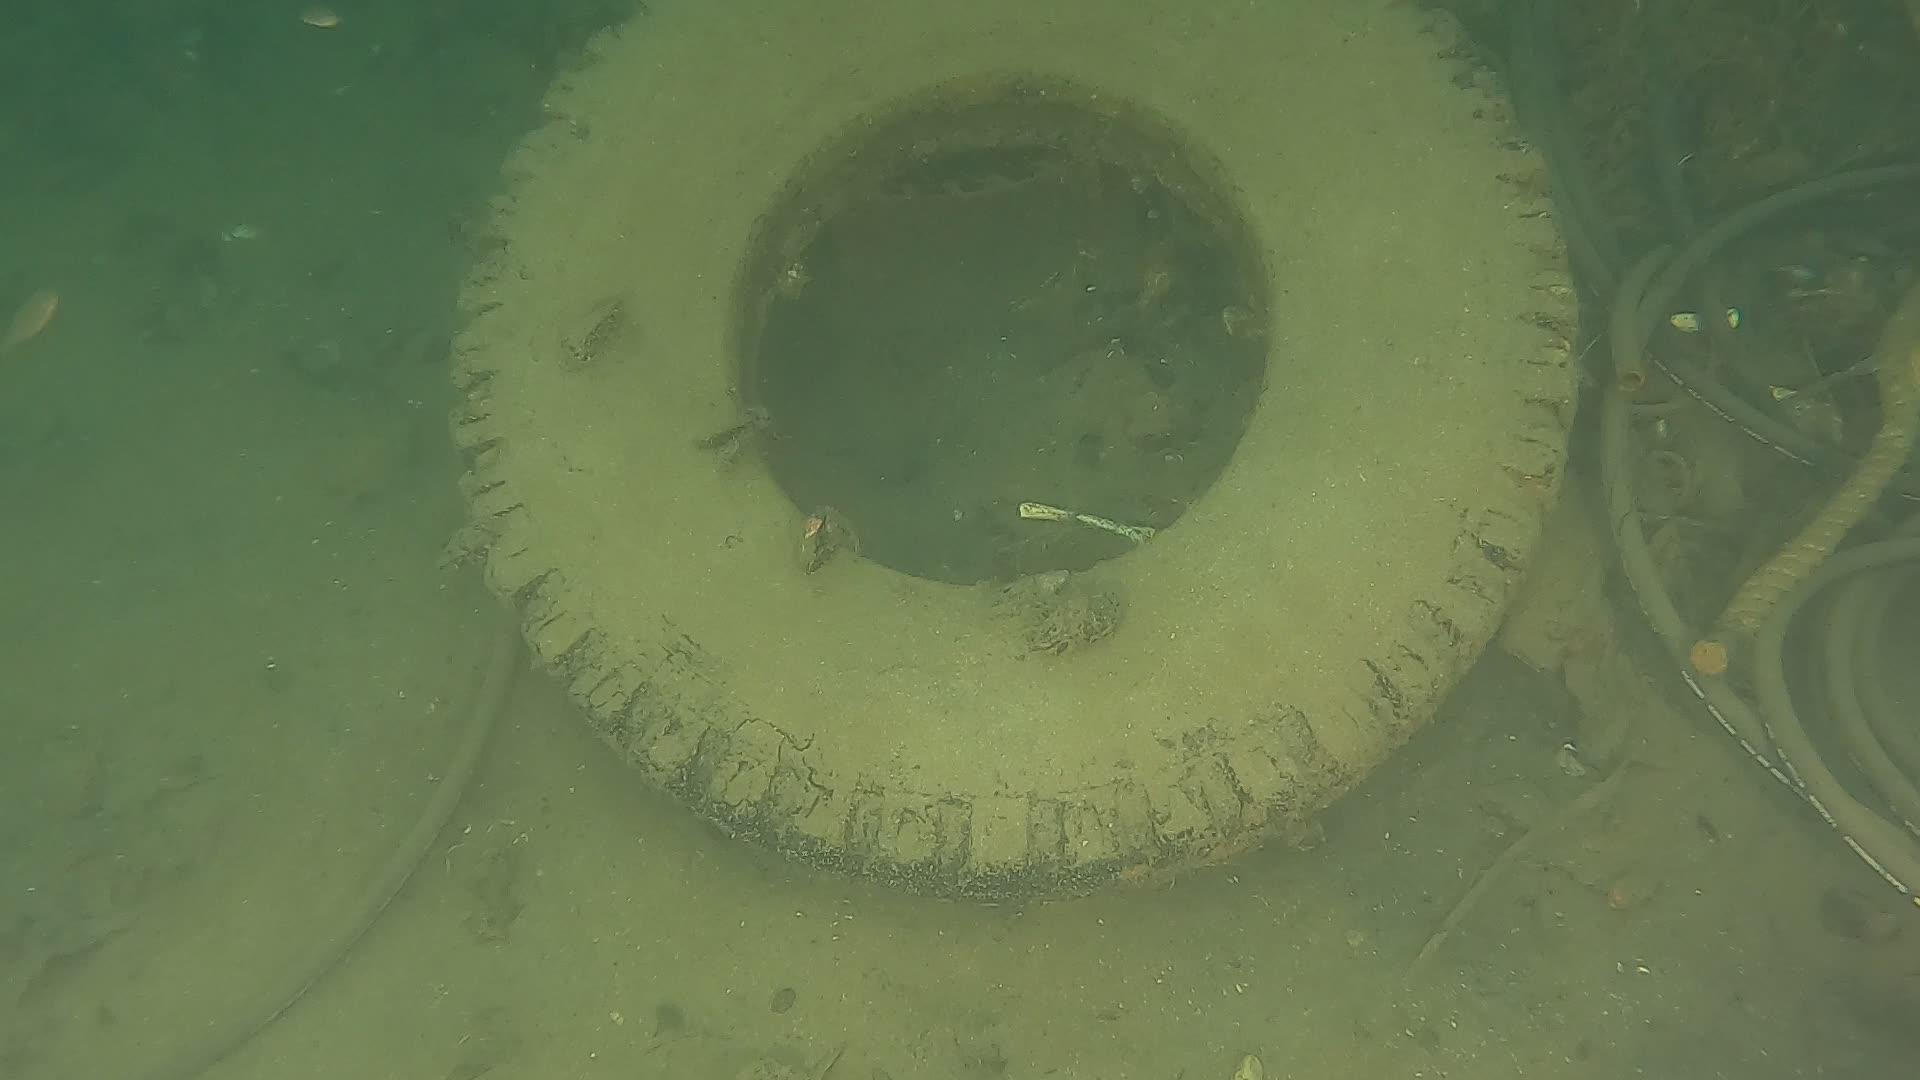rope: (1718, 295, 1920, 637)
tire: (444, 0, 1578, 906)
